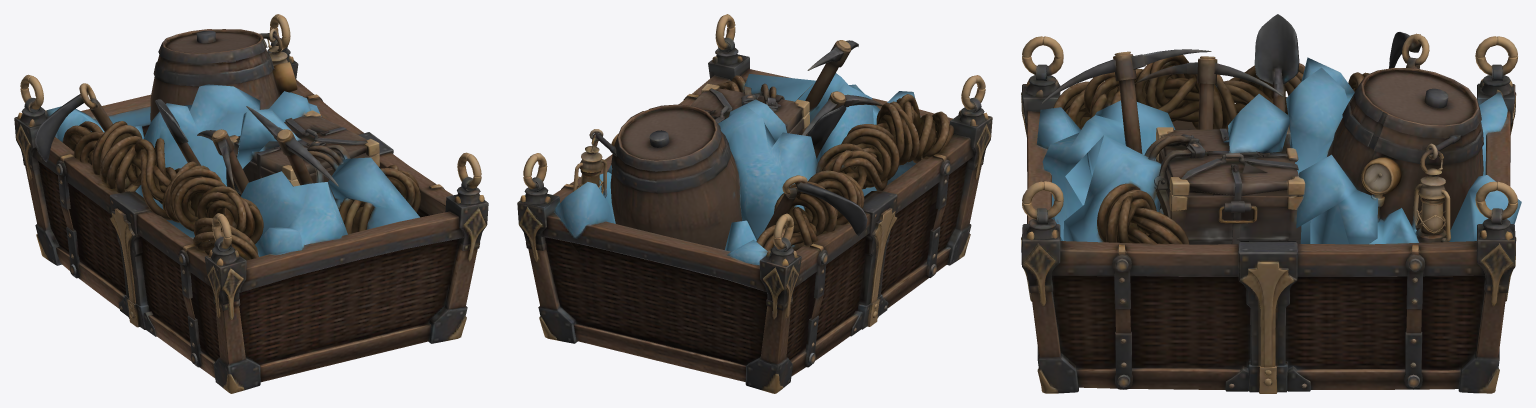
File: SM_Basket_04_FullCargo_Ice.glb
3 renders of one model, left to right at view 1: azimuth 30°, elevation 25°; view 2: azimuth 150°, elevation 25°; view 3: azimuth 270°, elevation 25°, orthographic. The views are drawn at different scales.
Parts seen in each view (by area): view 1: tripo_node_c907eebf; view 2: tripo_node_c907eebf; view 3: tripo_node_c907eebf.
Boxes of the visible parts, x1,y1,x2,y2 form: tripo_node_c907eebf: (14,14,488,393); tripo_node_c907eebf: (517,14,992,393); tripo_node_c907eebf: (1021,14,1521,393).
Size of the model in its own units: 0.8198 by 0.5708 by 0.9927.
Materials: 1 (1 with a texture image).
